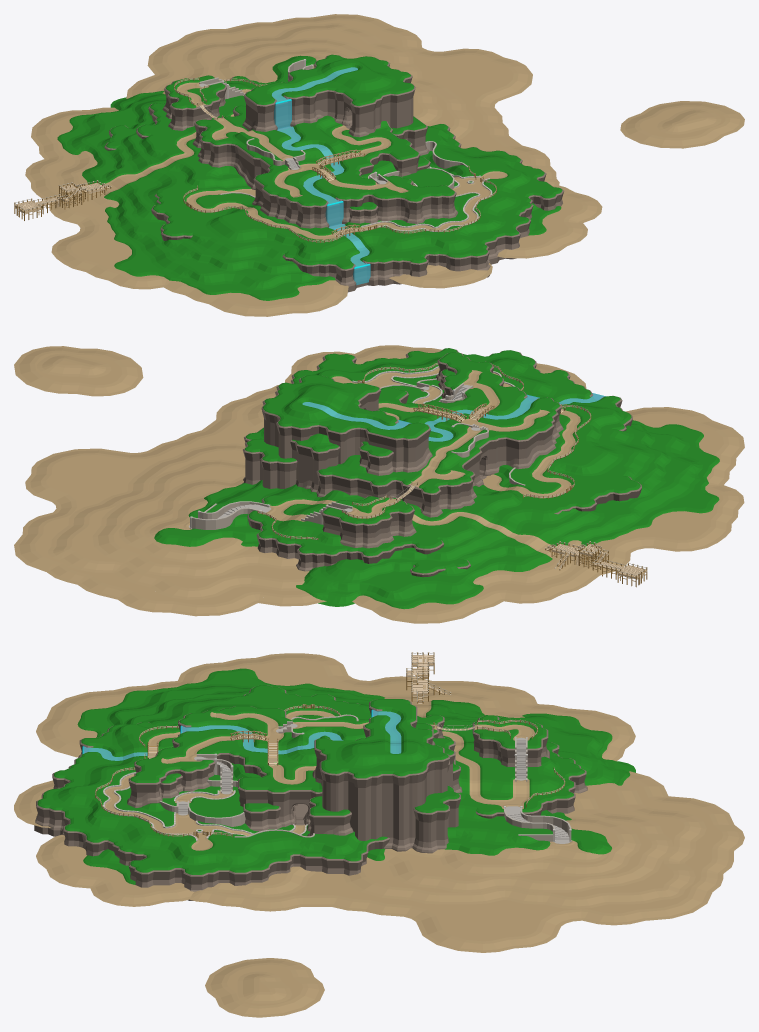
The model's file is Large_Island_v2_No_Ocean_No_Props_merged.glb.
3 views of the same model, one above another, from view 1: azimuth 30°, elevation 25°; view 2: azimuth 150°, elevation 25°; view 3: azimuth 270°, elevation 25° (orthographic). The views are drawn at different scales.
Visible parts, largest first — view 1: Grass, Dirt, Cliff, Water River, Waterfall; view 2: Dirt, Grass, Cliff, Water River; view 3: Dirt, Grass, Cliff, Water River, Carved Stone Walkway, Carved Stone 3, Carved Stone 2.
Boxes of the visible parts, x1,y1,x2,y2 form: Grass: (57,54,562,300); Dirt: (25,14,744,316); Cliff: (104,55,563,292); Water River: (272,67,369,267); Waterfall: (274,100,370,285); Dirt: (14,345,744,623); Grass: (154,348,719,609); Cliff: (242,348,641,577); Water River: (302,393,605,441); Dirt: (14,653,744,1017); Grass: (37,668,635,884); Cliff: (34,685,587,900); Water River: (83,709,401,760); Carved Stone Walkway: (178,723,569,843); Carved Stone 3: (103,772,307,840); Carved Stone 2: (103,772,306,839).
Size of the model in its own units: 157 by 19.25 by 134.
